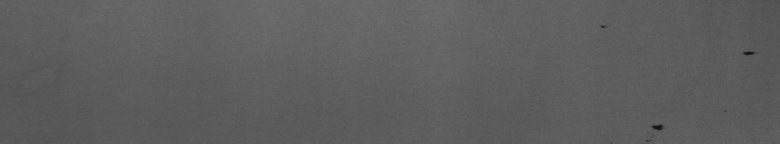fi: (740, 44, 757, 64)
